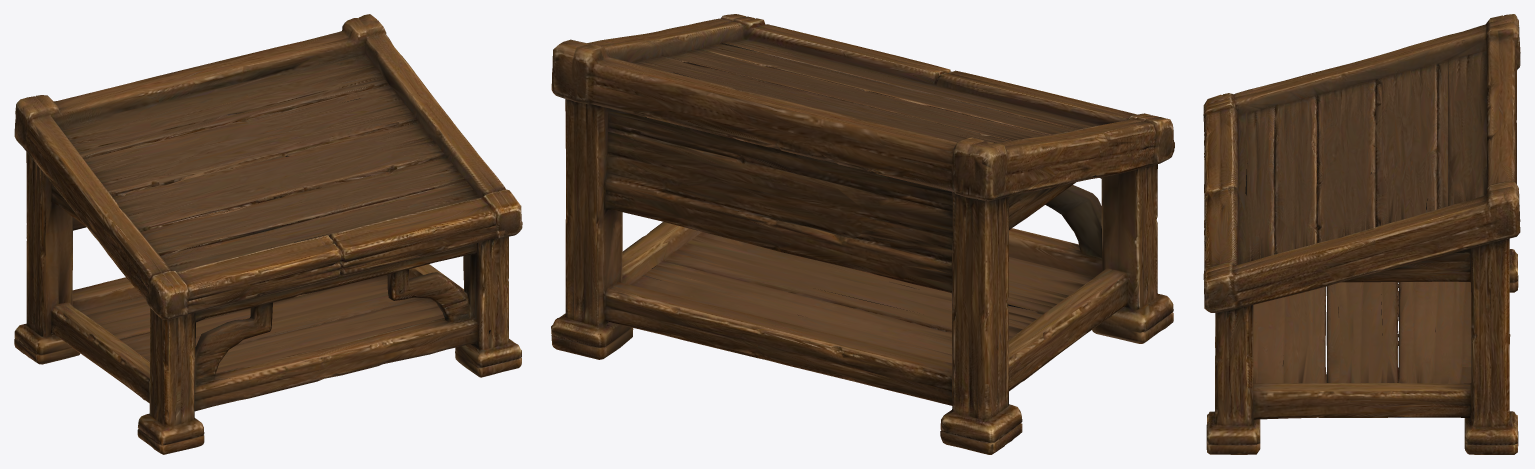
Rendered from mesa_de_centro_de_madera.glb.
3 views of the same model, side by side, from view 1: azimuth 30°, elevation 25°; view 2: azimuth 150°, elevation 25°; view 3: azimuth 270°, elevation 25° (orthographic). The views are drawn at different scales.
Visible parts, largest first — view 1: mesa_de_centro_de_madera; view 2: mesa_de_centro_de_madera; view 3: mesa_de_centro_de_madera.
Boxes of the visible parts, x1,y1,x2,y2 form: mesa_de_centro_de_madera: (14, 14, 522, 454); mesa_de_centro_de_madera: (551, 14, 1174, 454); mesa_de_centro_de_madera: (1203, 14, 1520, 454).
Size of what is drawn, in the model's own units: 0.685 by 0.45 by 0.4959.
Materials: 1 (1 with a texture image).
